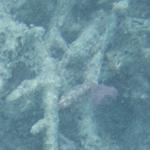dead: (7, 14, 84, 140)
